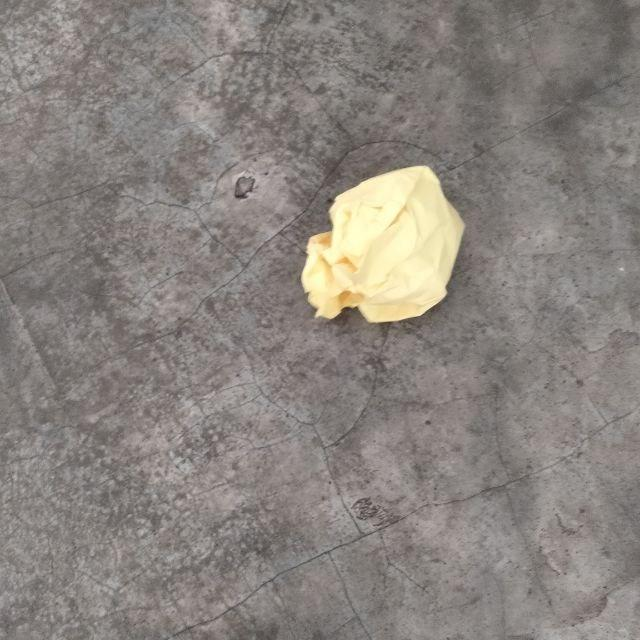paper: (262, 121, 483, 391)
